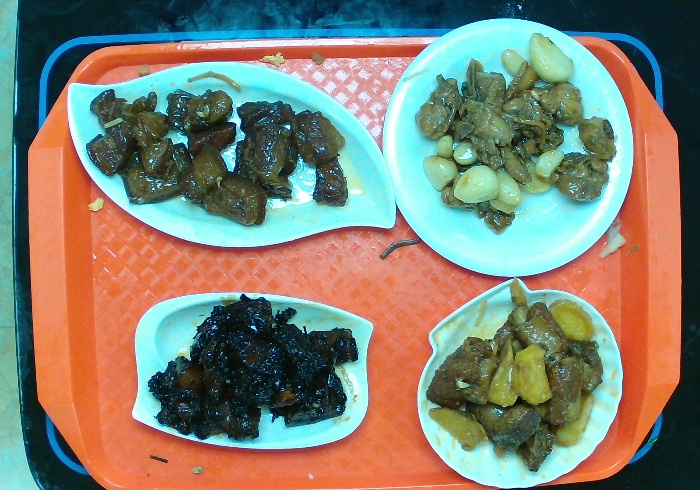RJxy-Bei_Ke_Wan: (417, 272, 631, 490)
RJxy-Jian_Jiao_Fang_Die: (128, 282, 381, 456)
RJxy-Jian_Jiao_Pan: (63, 54, 397, 253)
RJxy-Yuan_Pan: (379, 9, 635, 275)
